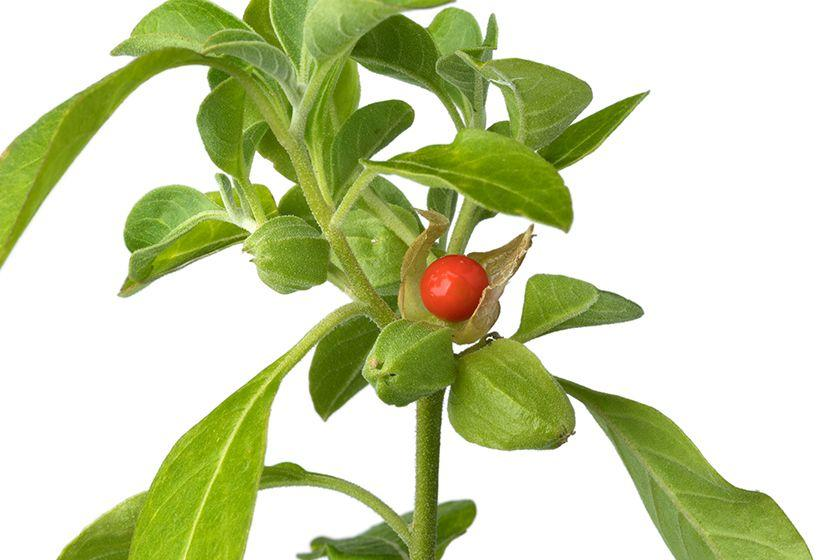healthy_leaf: (131, 31, 668, 541)
